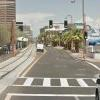Crosswalk: (10, 69, 99, 97)
